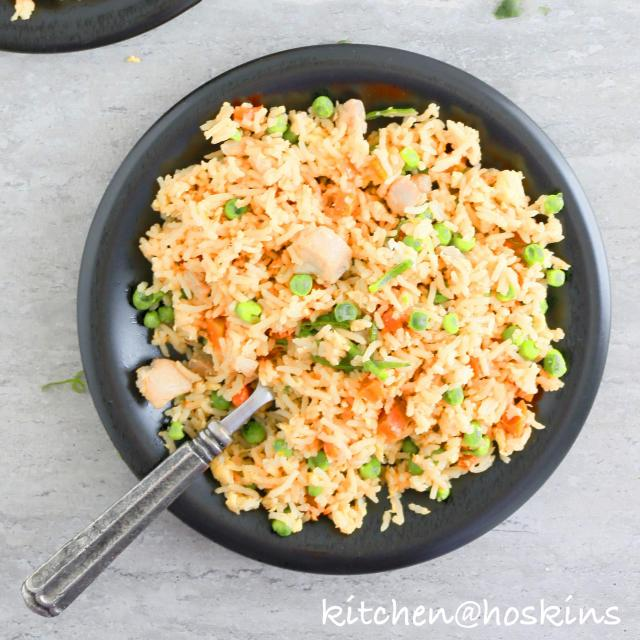Nasi Goreng: (130, 93, 571, 538)
